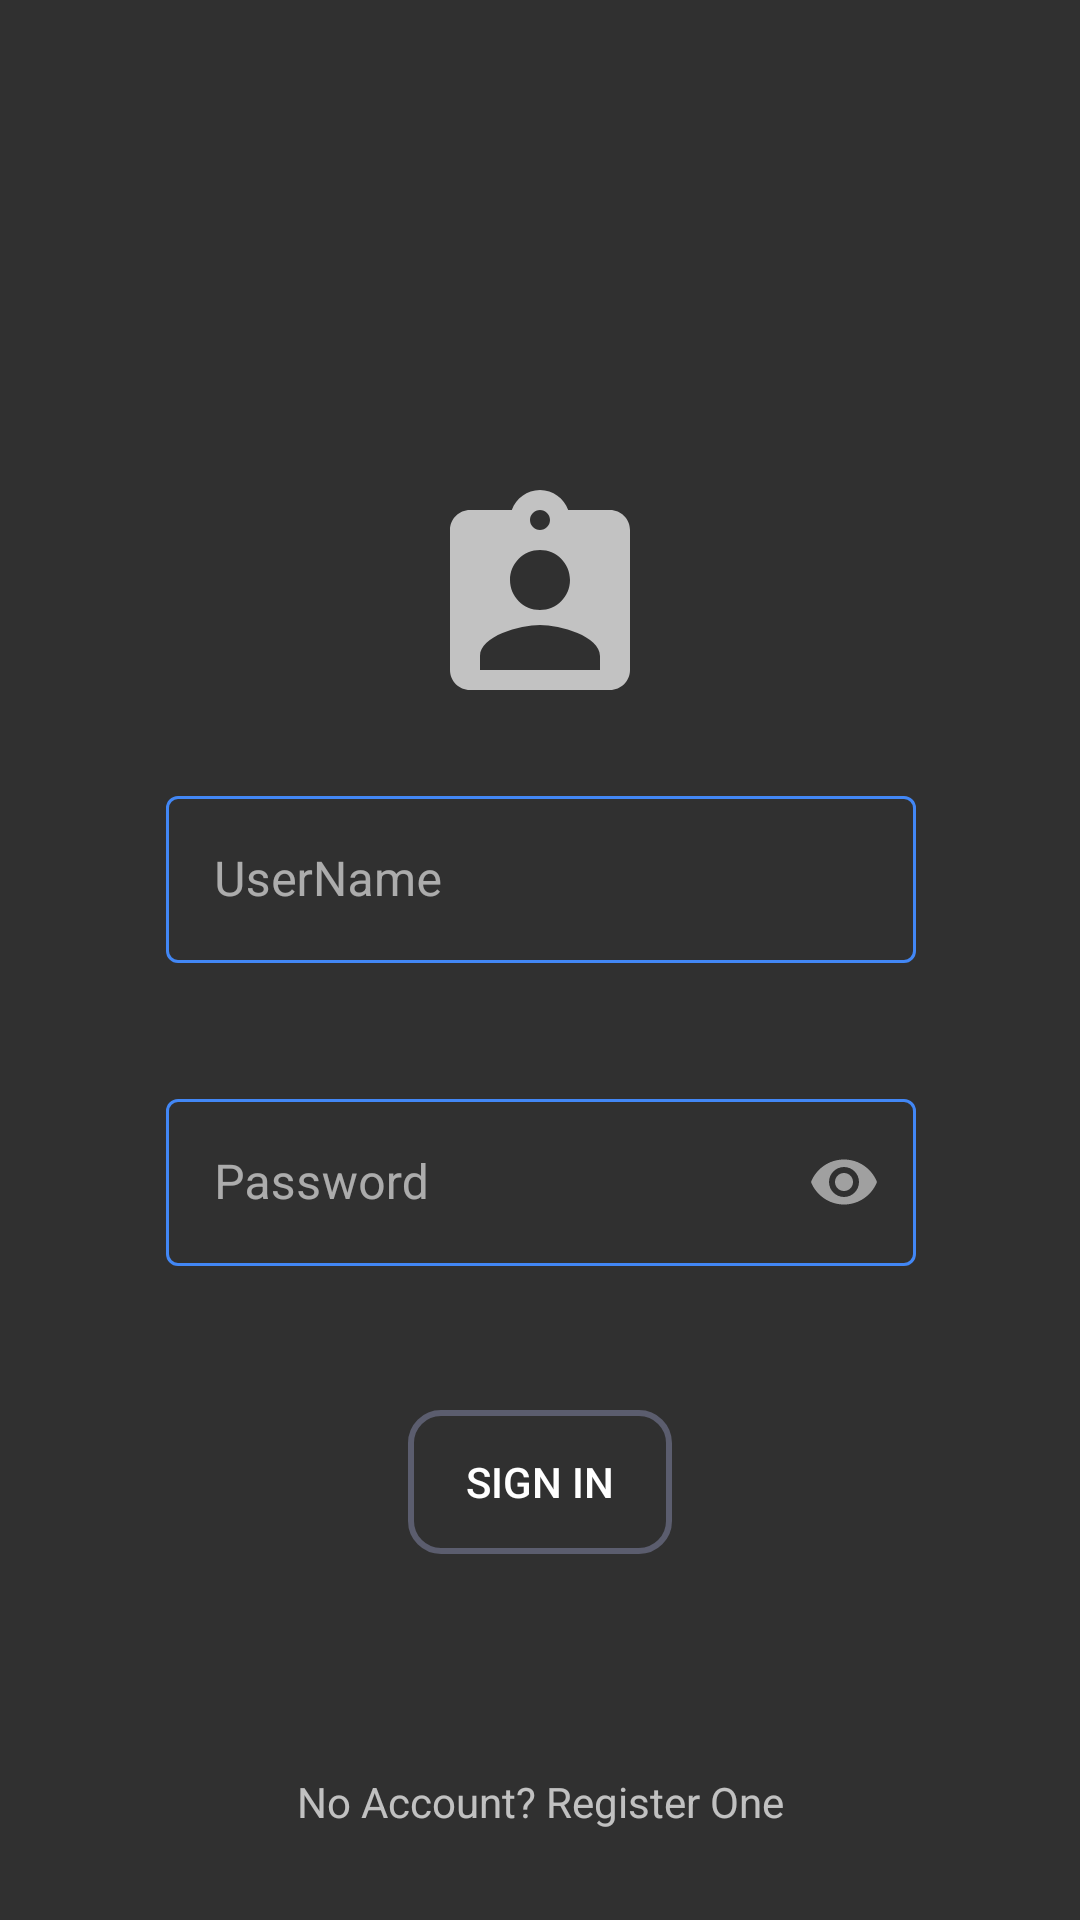

Point at icon controls on the screen. Image size 1080 × 1920, points as (x,y).
assignment ind: (540,590)
